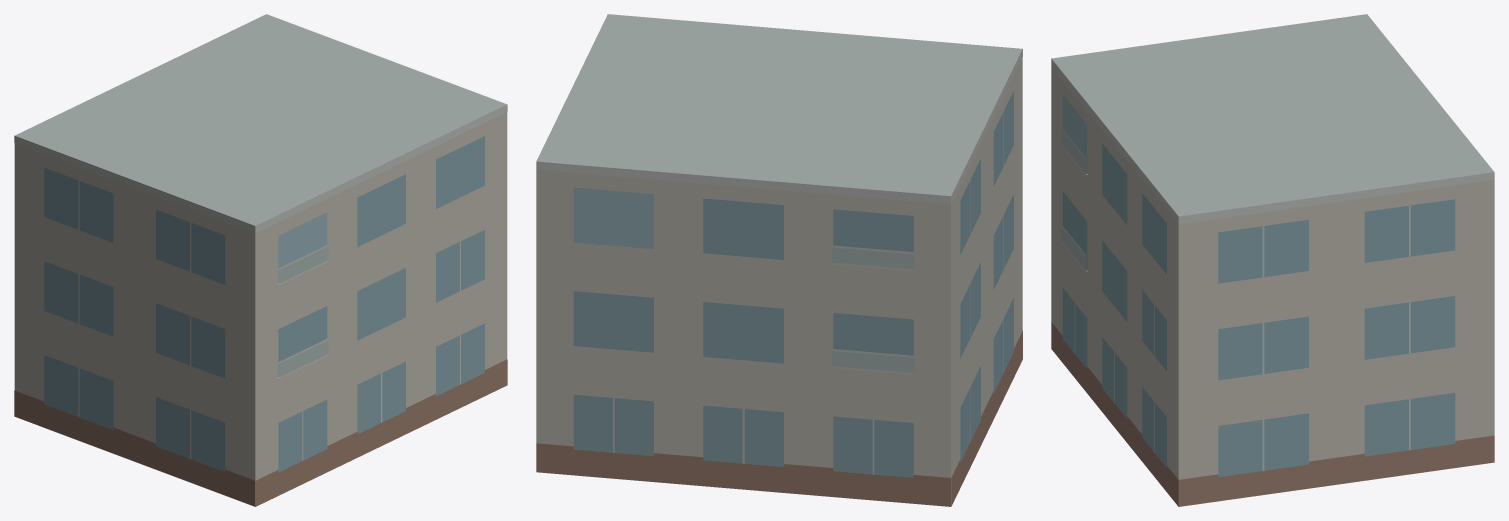
File: survey-upis-32533623.glb
3 views of the same model, side by side, from view 1: azimuth 30°, elevation 25°; view 2: azimuth 150°, elevation 25°; view 3: azimuth 270°, elevation 25° (orthographic). The views are drawn at different scales.
Parts seen in each view (by area): view 1: survey-upis-32533623.tmp; view 2: survey-upis-32533623.tmp; view 3: survey-upis-32533623.tmp.
Part boxes in pixels (bbox=[...]): survey-upis-32533623.tmp: bbox=[14, 14, 507, 506]; survey-upis-32533623.tmp: bbox=[536, 14, 1022, 506]; survey-upis-32533623.tmp: bbox=[1051, 14, 1494, 506].
Size of the model in its own units: 13.81 by 9.23 by 12.78.
